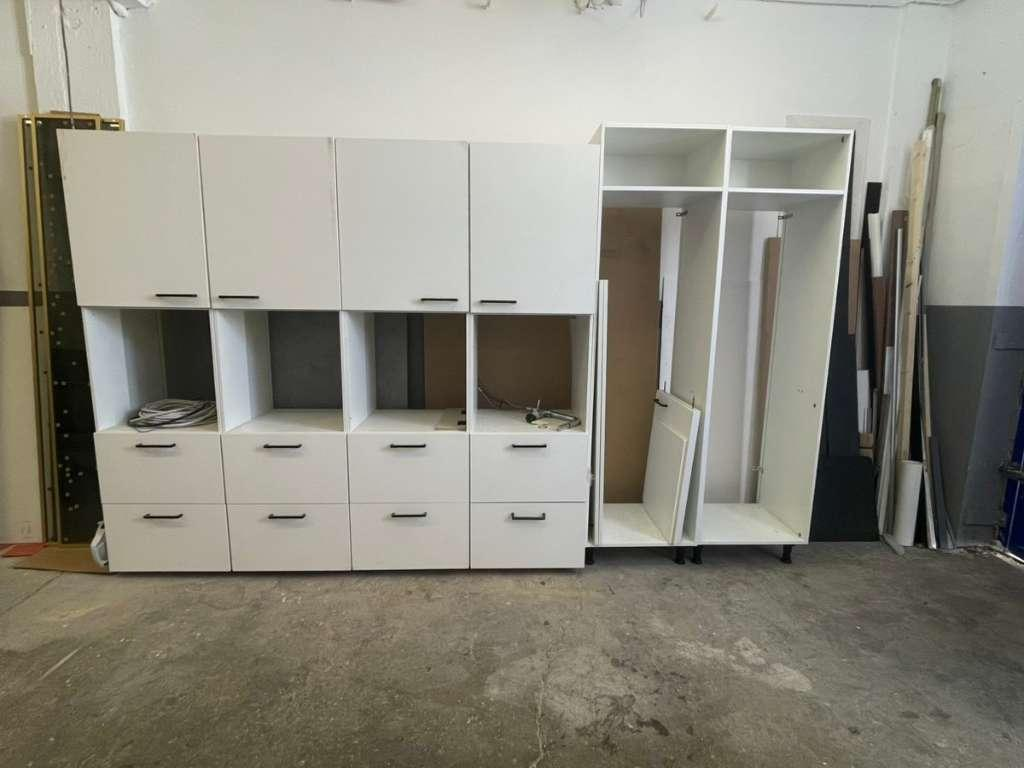cabinet_door: (67, 138, 201, 304), (472, 149, 597, 313), (208, 148, 336, 308), (342, 149, 470, 307), (228, 438, 348, 502), (103, 438, 224, 501), (350, 437, 469, 499), (355, 506, 469, 567), (235, 508, 350, 568), (475, 439, 590, 499), (108, 507, 221, 568), (471, 505, 581, 562)
handle: (214, 287, 264, 307), (151, 285, 202, 304), (137, 509, 188, 526), (417, 292, 464, 309), (479, 293, 522, 311), (382, 438, 430, 454), (132, 438, 182, 453), (258, 439, 307, 454), (264, 509, 309, 525), (505, 509, 549, 525), (504, 438, 550, 453), (385, 509, 430, 524), (652, 398, 674, 412)
